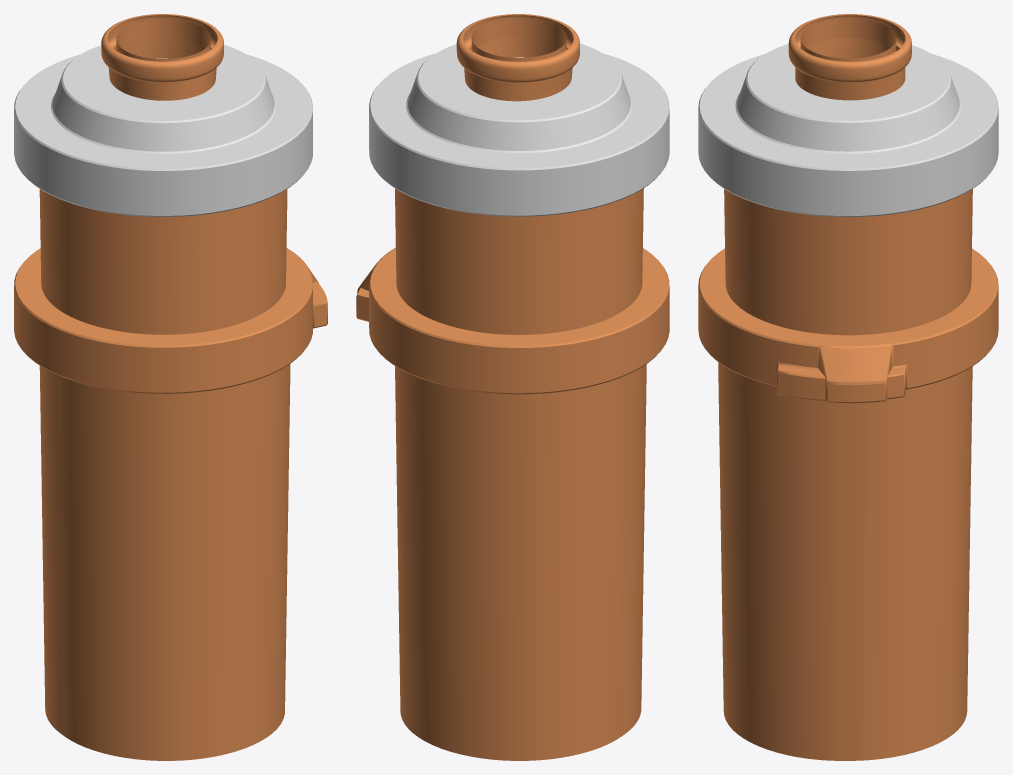
File: bottle.fbx
The picture shows the model from 3 angles, left to right: view 1: azimuth 30°, elevation 25°; view 2: azimuth 150°, elevation 25°; view 3: azimuth 270°, elevation 25°; orthographic projection.
Visible parts, largest first — view 1: Cylinder.027, Cylinder.019, Cylinder.028, Cylinder.032; view 2: Cylinder.028, Cylinder.019, Cylinder.027, Cylinder.032; view 3: Cylinder.019, Cylinder.027, Cylinder.028, Cylinder.032.
Boxes of the visible parts, box(x1,y1,x2,y2) form: Cylinder.027: box(14, 248, 327, 760); Cylinder.019: box(14, 44, 312, 334); Cylinder.028: box(14, 248, 318, 734); Cylinder.032: box(101, 14, 223, 100); Cylinder.028: box(357, 248, 669, 760); Cylinder.019: box(369, 43, 669, 334); Cylinder.027: box(356, 248, 669, 734); Cylinder.032: box(456, 14, 579, 101); Cylinder.019: box(698, 44, 998, 335); Cylinder.027: box(698, 248, 998, 760); Cylinder.028: box(698, 287, 998, 760); Cylinder.032: box(788, 14, 911, 100).
Size of the model in its own units: 17.12 by 39.6 by 16.03.
